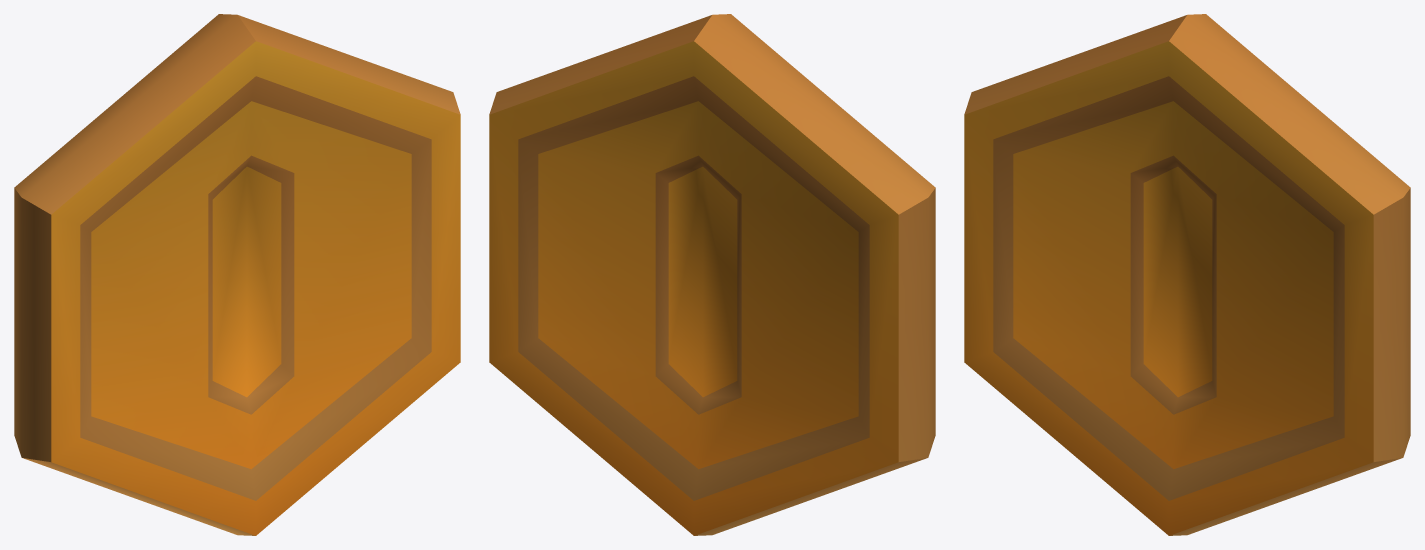
The model's file is INT_Collectible_Coin.fbx.
3 views of the same model, side by side, from view 1: azimuth 30°, elevation 25°; view 2: azimuth 150°, elevation 25°; view 3: azimuth 330°, elevation 25° (orthographic).
Visible parts, largest first — view 1: INT_Collectible_Coin; view 2: INT_Collectible_Coin; view 3: INT_Collectible_Coin.
Boxes of the visible parts, x1,y1,x2,y2 form: INT_Collectible_Coin: (14, 14, 460, 535); INT_Collectible_Coin: (489, 14, 935, 535); INT_Collectible_Coin: (964, 14, 1410, 535).
Bounding box in the file's own units: 0.6708 × 0.7727 × 0.0997.
